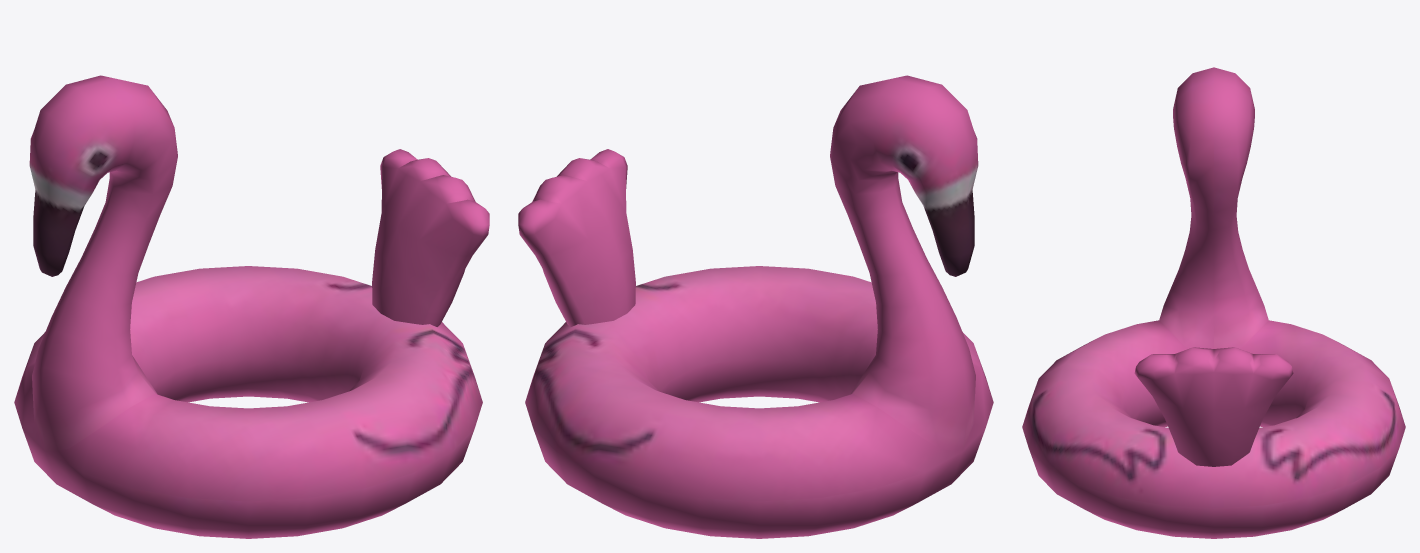
3 views of the same model, side by side, from view 1: azimuth 30°, elevation 25°; view 2: azimuth 150°, elevation 25°; view 3: azimuth 270°, elevation 25° (orthographic). The views are drawn at different scales.
Bounding box in the file's own units: 9.93 × 10.79 × 9.57.
1 material, 1 textured.
